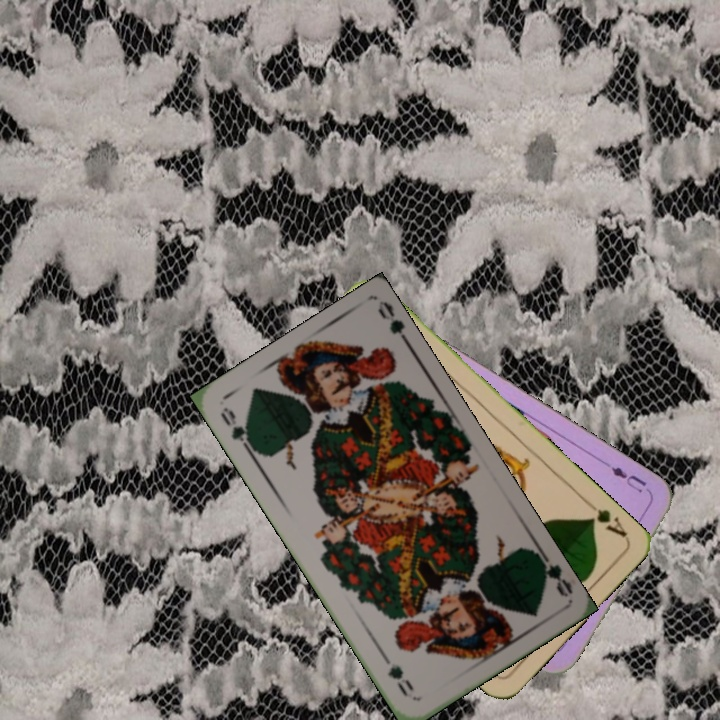EU: (601, 458, 649, 496)
GA: (580, 496, 630, 541)
GO: (530, 544, 575, 600), (216, 402, 261, 457)
